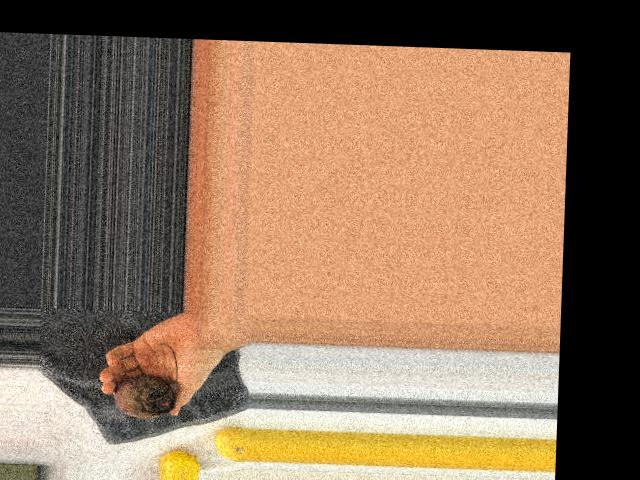beet: (112, 341, 176, 419)
